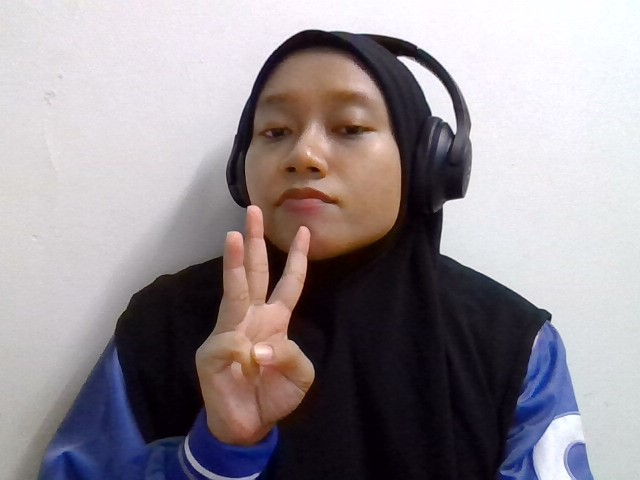Selangor: (194, 185, 341, 441)
